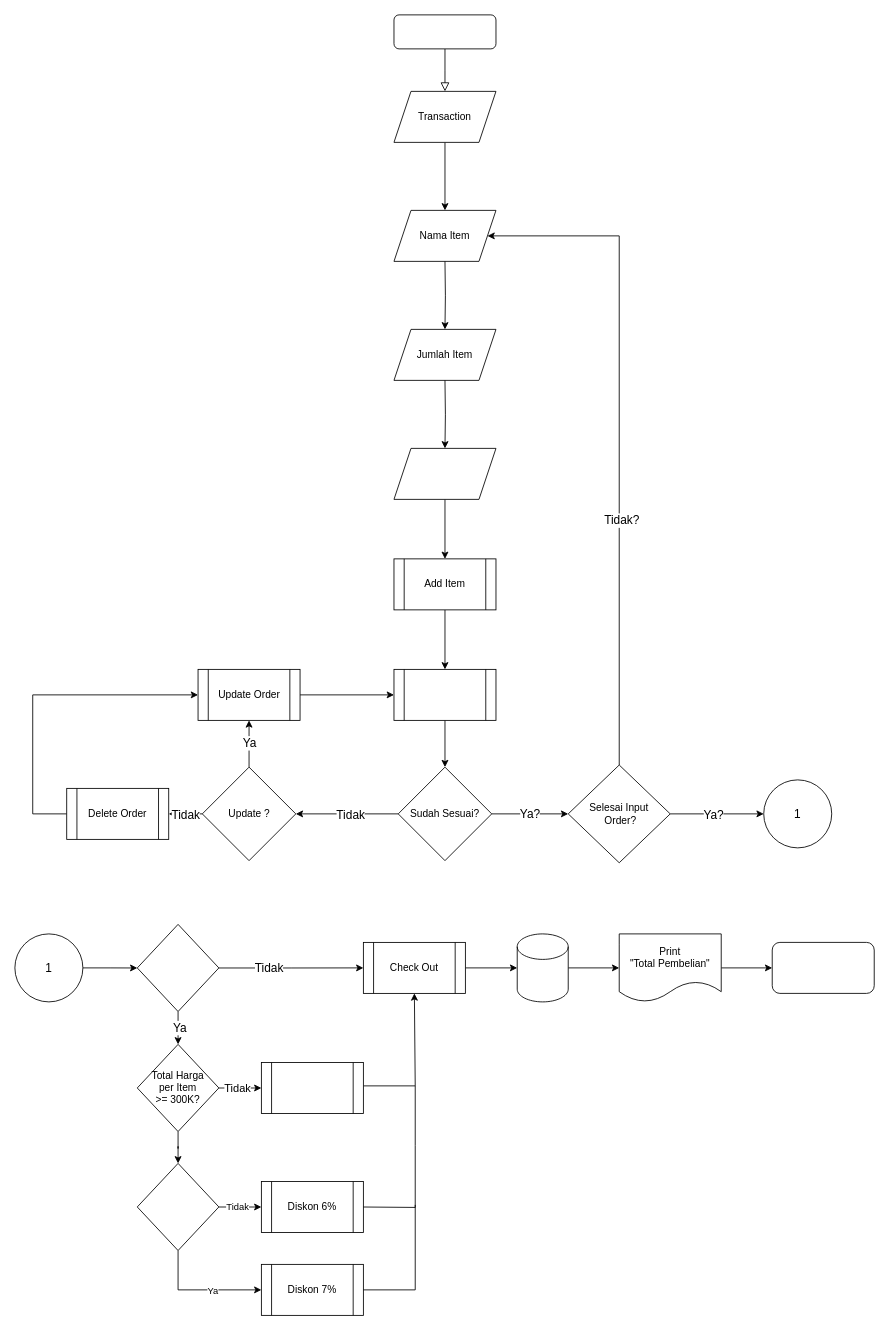
The diagram is 889 pixels wide and 1330 high, and some of its shapes have lost their labels. Here are the shapes that lost their labels. From the top down, the box of each, then its label:
(393, 14, 496, 49): START
(393, 448, 496, 499): Harga per Item
(393, 669, 496, 720): Check Order (Keranjang)
(136, 924, 219, 1012): Total Harga per Item >= 200K?
(516, 933, 568, 1002): Insert into Database
(771, 942, 874, 993): End
(261, 1062, 363, 1114): Diskon 5%
(136, 1163, 219, 1251): Total Harga per Item >= 500K?
